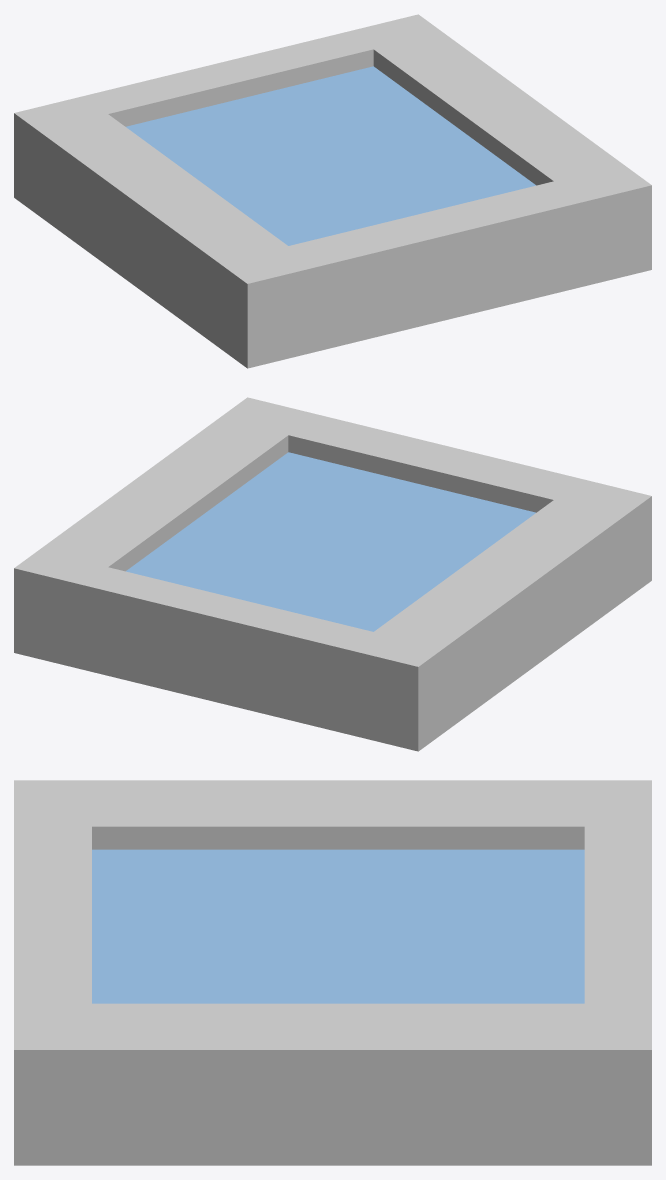
File: Model_BS_Window.fbx
The picture shows the model from 3 angles, top to bottom: view 1: azimuth 30°, elevation 25°; view 2: azimuth 150°, elevation 25°; view 3: azimuth 270°, elevation 25°; orthographic projection. The views are drawn at different scales.
Visible parts, largest first — view 1: Window; view 2: Window; view 3: Window.
Boxes of the visible parts, x1,y1,x2,y2 form: Window: [14, 14, 651, 368]; Window: [14, 397, 651, 751]; Window: [14, 780, 651, 1165].
Size of the model in its own units: 100 by 20 by 100.
